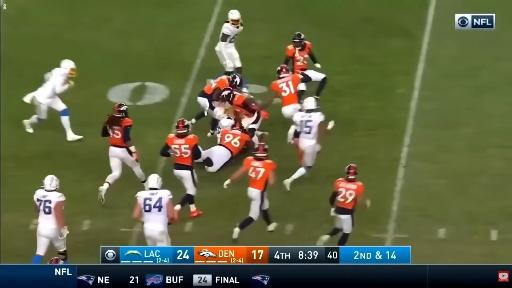Helmet: (43, 175, 59, 191), (60, 60, 76, 76), (147, 174, 162, 189), (212, 105, 228, 119), (113, 103, 128, 117), (221, 88, 235, 103), (228, 10, 241, 26), (254, 143, 268, 157), (229, 74, 242, 89), (302, 97, 317, 110), (292, 32, 305, 47), (176, 119, 189, 133), (346, 164, 357, 179), (219, 118, 234, 129), (277, 65, 289, 77), (232, 121, 243, 131), (49, 258, 63, 264)
Jersey: (135, 189, 172, 227), (36, 68, 69, 104), (34, 190, 65, 227), (243, 157, 276, 191), (167, 134, 198, 166), (271, 74, 301, 106), (293, 111, 325, 140), (334, 179, 363, 209), (219, 130, 250, 156), (286, 42, 311, 73), (107, 118, 132, 147), (232, 92, 256, 117), (220, 22, 243, 44), (204, 76, 229, 94)
Player: (224, 143, 277, 240), (23, 60, 82, 141), (99, 103, 146, 203), (284, 97, 334, 190), (161, 119, 202, 217), (317, 164, 363, 245), (190, 74, 242, 136), (32, 175, 68, 263), (133, 174, 174, 246), (284, 33, 326, 98), (221, 88, 264, 147), (262, 65, 308, 119), (203, 121, 250, 172), (215, 10, 243, 75), (215, 107, 250, 143), (217, 113, 234, 143)
